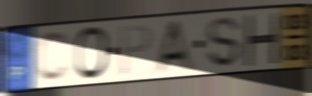A: (153, 18, 198, 74)
C: (35, 29, 72, 84)
H: (243, 12, 282, 67)
O: (74, 25, 110, 82)
P: (119, 22, 154, 78)
S: (206, 16, 242, 70)
